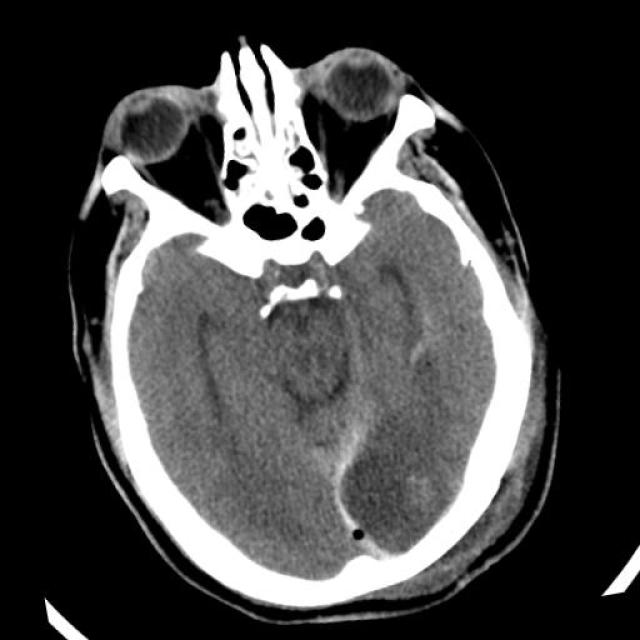Subdural: (291, 416, 423, 588)
